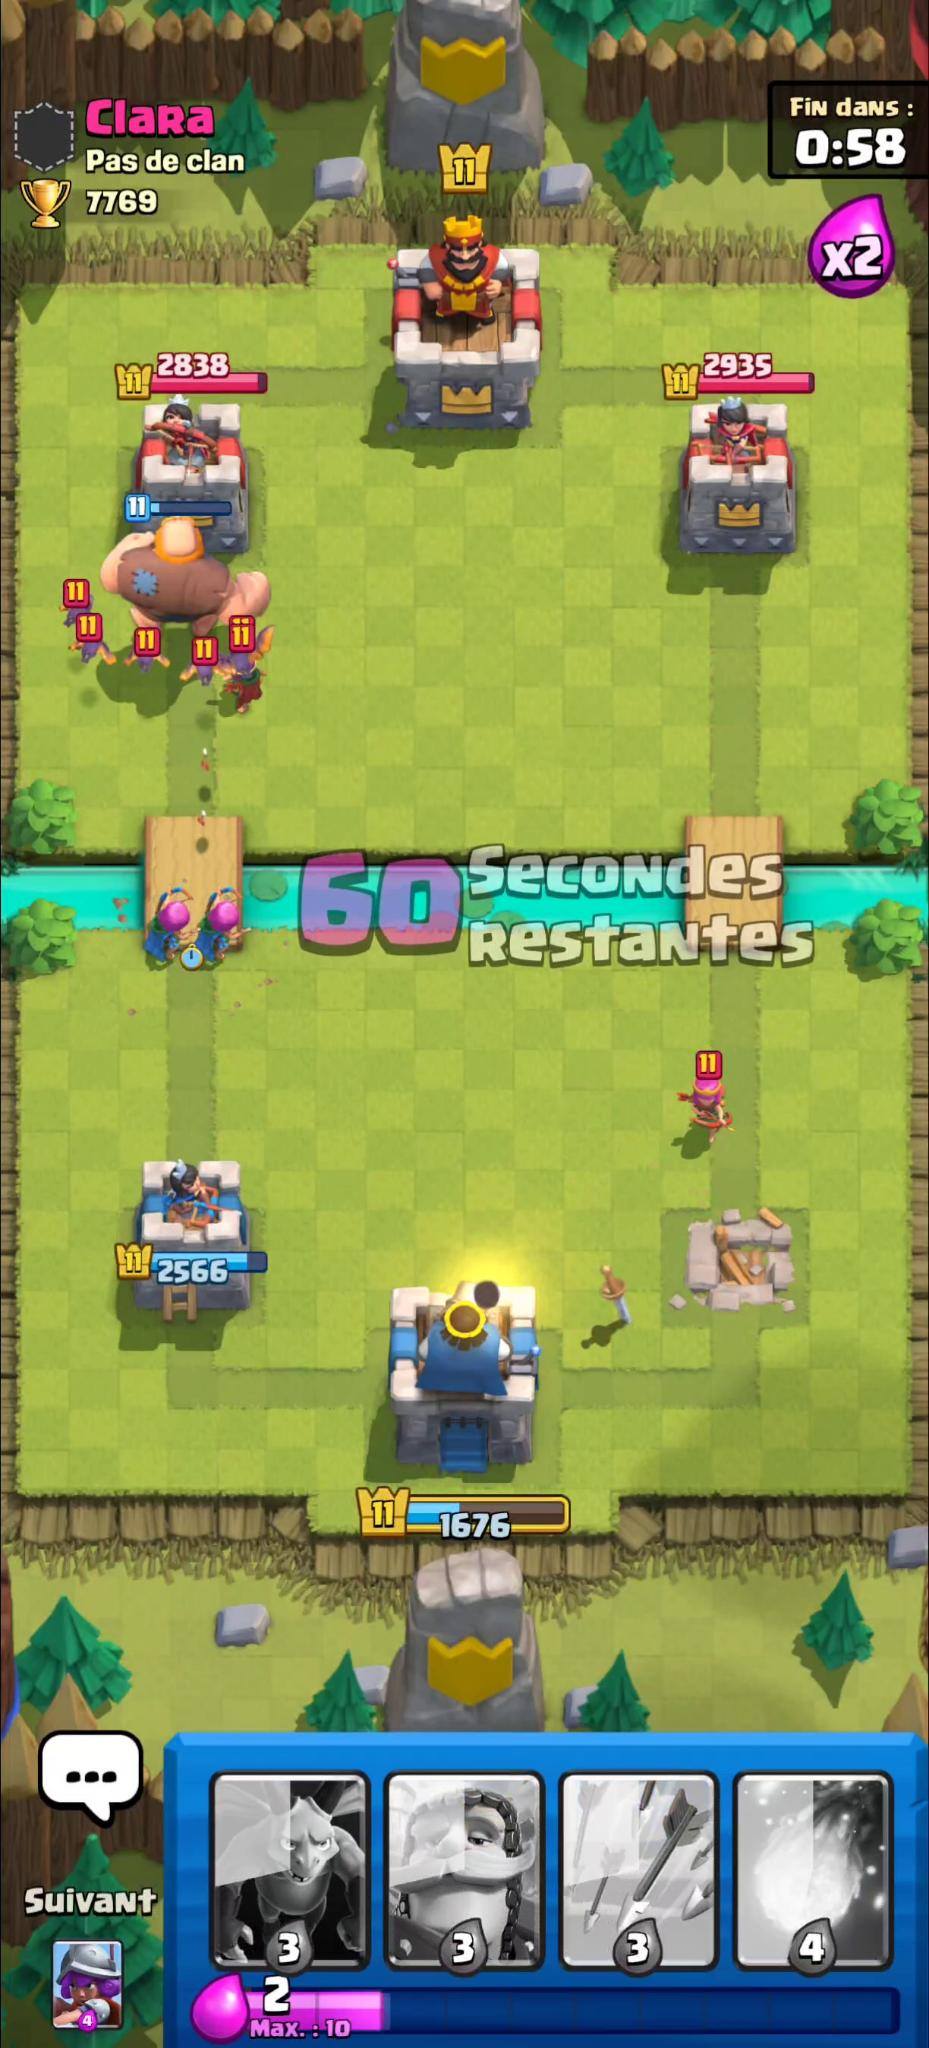archere: (672, 1072, 738, 1143), (197, 883, 250, 970), (145, 880, 195, 970)
bat: (221, 626, 274, 678), (68, 633, 118, 669), (124, 639, 172, 674), (182, 653, 230, 687), (57, 592, 95, 626)
geant: (101, 515, 273, 633)
